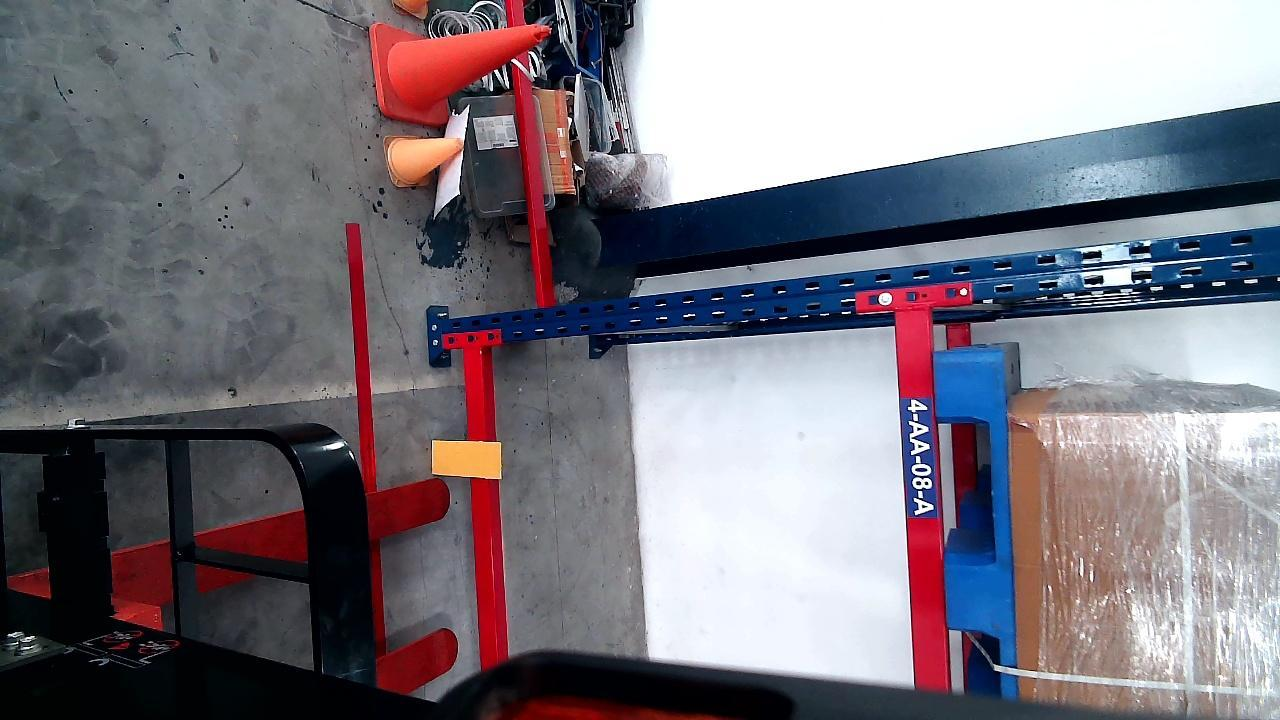red_line: (348, 223, 375, 487)
